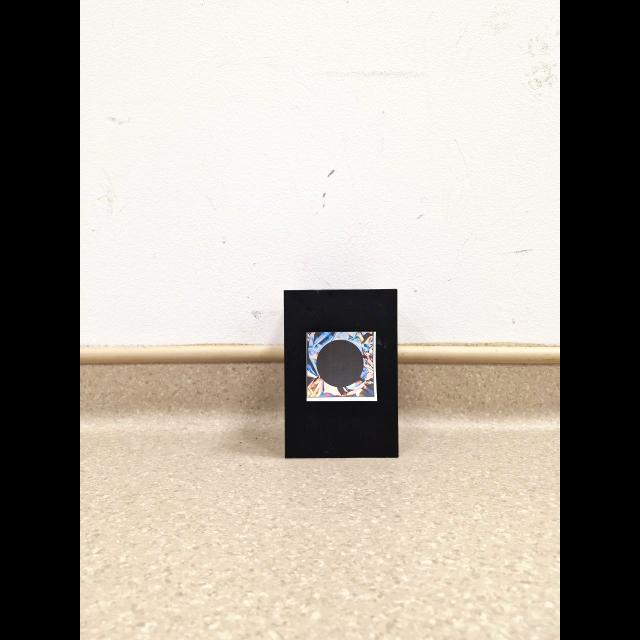CIRCLE: (310, 340, 365, 394)
